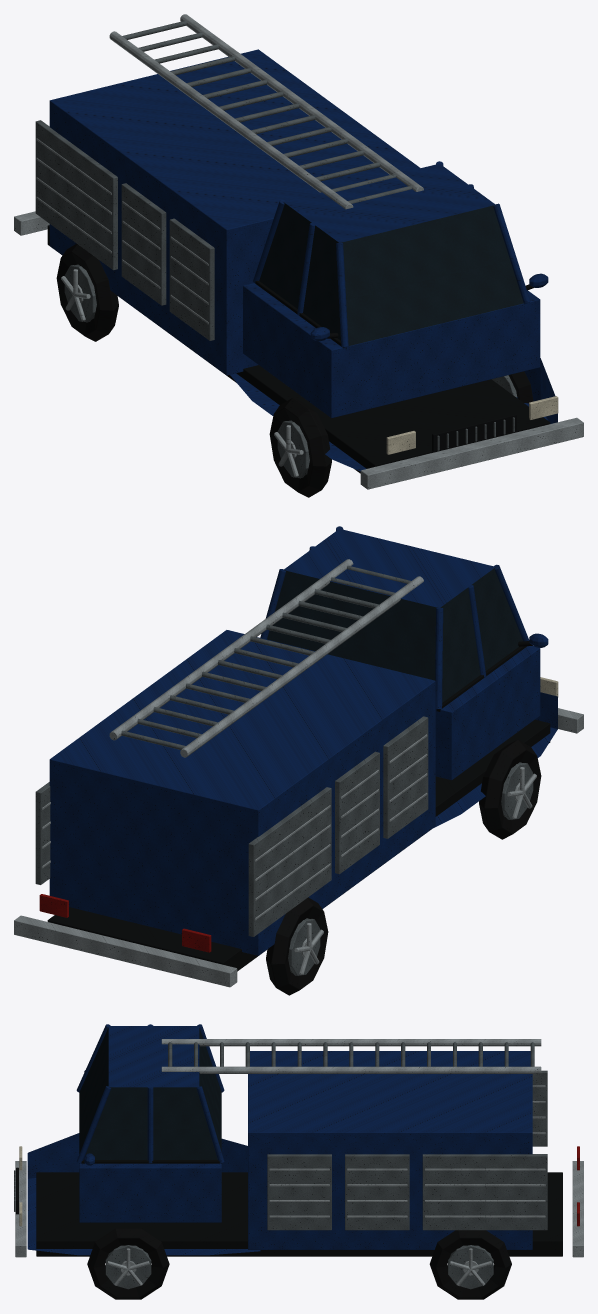
The model's file is PROP-EAE1C359D468_lod1.glb.
The picture shows the model from 3 angles, top to bottom: view 1: azimuth 30°, elevation 25°; view 2: azimuth 150°, elevation 25°; view 3: azimuth 270°, elevation 25°; orthographic projection. The views are drawn at different scales.
Parts seen in each view (by area): view 1: equipment_body.001, sloped_cabin_glazing.005, lower_cab_shell.003, locker_door.001, chassis.007, roof_panel.005, tire.007, ladder_rails.001, ladder_rungs.001, bumper.007, window_pillars.005, rim.007 (+5 smaller); view 2: equipment_body.001, locker_door.001, sloped_cabin_glazing.005, lower_cab_shell.003, roof_panel.005, chassis.007, tire.007, ladder_rails.001, ladder_rungs.001, bumper.007, window_pillars.005, locker_slats.001 (+4 smaller); view 3: equipment_body.001, locker_door.001, chassis.007, sloped_cabin_glazing.005, lower_cab_shell.003, tire.007, ladder_rails.001, roof_panel.005, shaped_body_panels.007, locker_slats.001, rim.007, window_pillars.005 (+4 smaller).
Part boxes in pixels (left/top/right/bottom): equipment_body.001: left=49, top=49, right=420, bottom=375; sloped_cabin_glazing.005: left=259, top=202, right=523, bottom=345; lower_cab_shell.003: left=243, top=283, right=540, bottom=418; locker_door.001: left=35, top=120, right=214, bottom=340; chassis.007: left=47, top=225, right=550, bottom=473; roof_panel.005: left=283, top=163, right=495, bottom=242; tire.007: left=56, top=243, right=533, bottom=497; ladder_rails.001: left=109, top=14, right=423, bottom=209; ladder_rungs.001: left=122, top=20, right=411, bottom=203; bumper.007: left=14, top=211, right=583, bottom=489; window_pillars.005: left=253, top=161, right=530, bottom=347; rim.007: left=64, top=264, right=517, bottom=478; equipment_body.001: left=49, top=630, right=435, bottom=955; locker_door.001: left=35, top=716, right=428, bottom=936; sloped_cabin_glazing.005: left=267, top=567, right=522, bottom=702; lower_cab_shell.003: left=435, top=646, right=540, bottom=780; roof_panel.005: left=283, top=528, right=495, bottom=607; chassis.007: left=47, top=719, right=550, bottom=971; tire.007: left=266, top=739, right=541, bottom=995; ladder_rails.001: left=109, top=559, right=423, bottom=757; ladder_rungs.001: left=121, top=565, right=410, bottom=749; bumper.007: left=14, top=708, right=583, bottom=987; window_pillars.005: left=260, top=526, right=529, bottom=709; locker_slats.001: left=42, top=734, right=427, bottom=920; equipment_body.001: left=248, top=1051, right=532, bottom=1249; locker_door.001: left=267, top=1070, right=547, bottom=1230; chassis.007: left=36, top=1172, right=562, bottom=1256; sloped_cabin_glazing.005: left=79, top=1027, right=221, bottom=1159; lower_cab_shell.003: left=79, top=1163, right=221, bottom=1222; tire.007: left=87, top=1228, right=511, bottom=1299; ladder_rails.001: left=161, top=1039, right=541, bottom=1073; roof_panel.005: left=108, top=1026, right=199, bottom=1087; shaped_body_panels.007: left=27, top=1133, right=260, bottom=1255; locker_slats.001: left=269, top=1085, right=545, bottom=1217; rim.007: left=105, top=1245, right=493, bottom=1289; window_pillars.005: left=76, top=1024, right=224, bottom=1163.
Size of the model in its own units: 2.56 by 2.63 by 6.61.
Materials: 8 (8 with a texture image).
